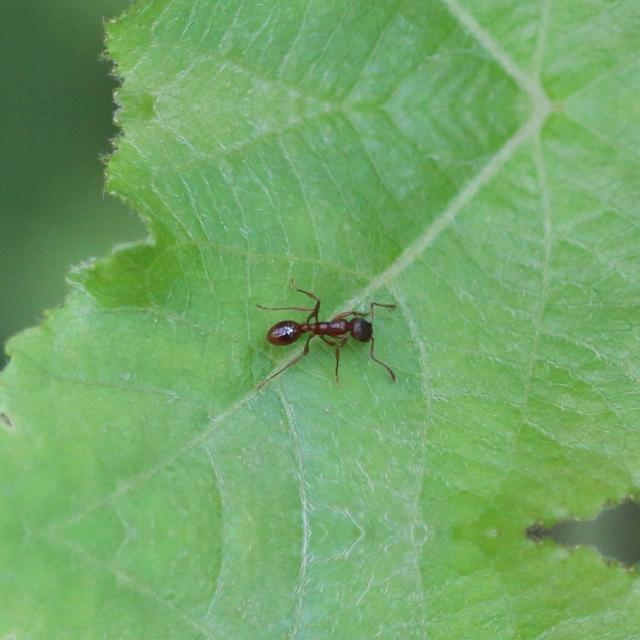Myrmica: (243, 278, 403, 378)
